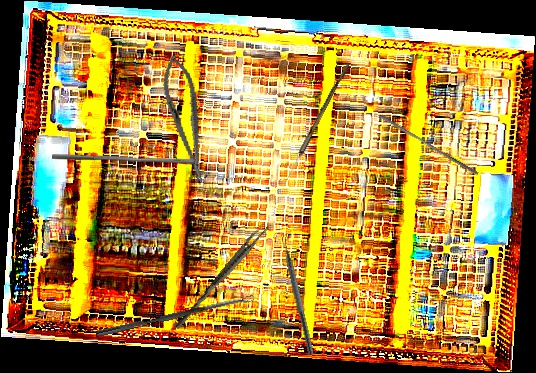Chopper: (278, 232, 323, 356)
Needle Holder: (155, 52, 216, 187)
Pusher: (378, 114, 481, 176), (52, 154, 194, 165)
Surgical Spoon: (281, 61, 350, 189), (95, 294, 255, 339)
Tissue Forceps: (172, 221, 270, 333)
